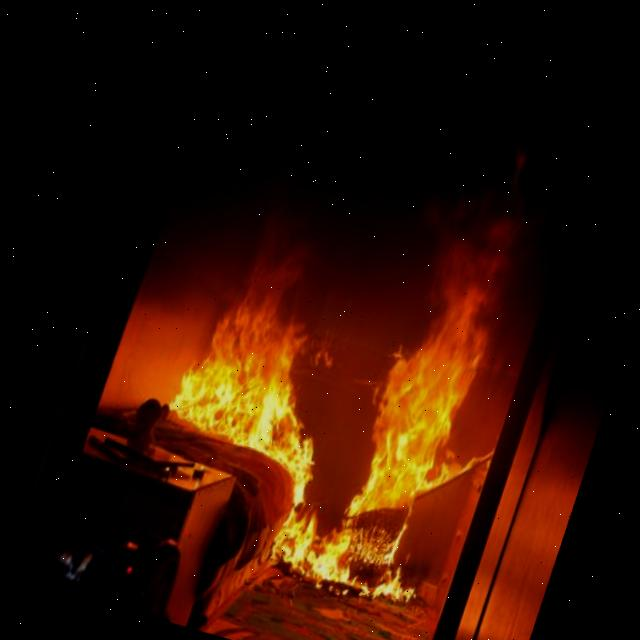fire: (175, 231, 526, 577)
